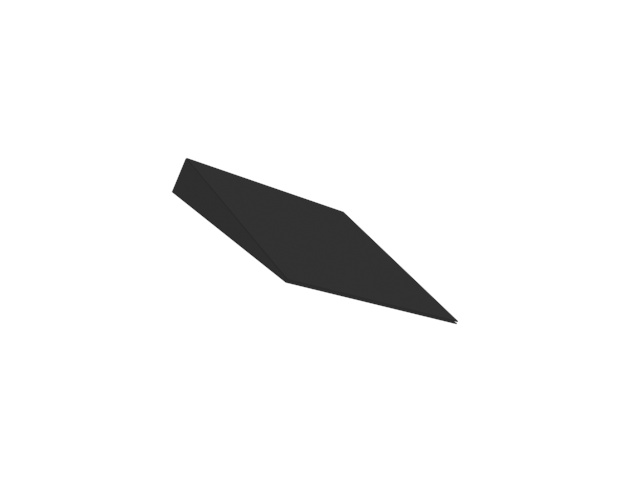ring_binder: (169, 153, 464, 328)
